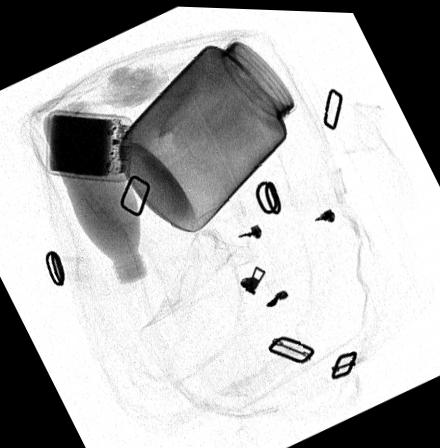Powerbank: (42, 109, 133, 183)
